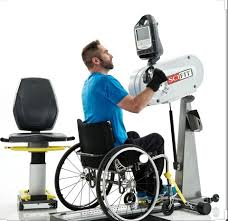wheelchair: (55, 41, 169, 221)
